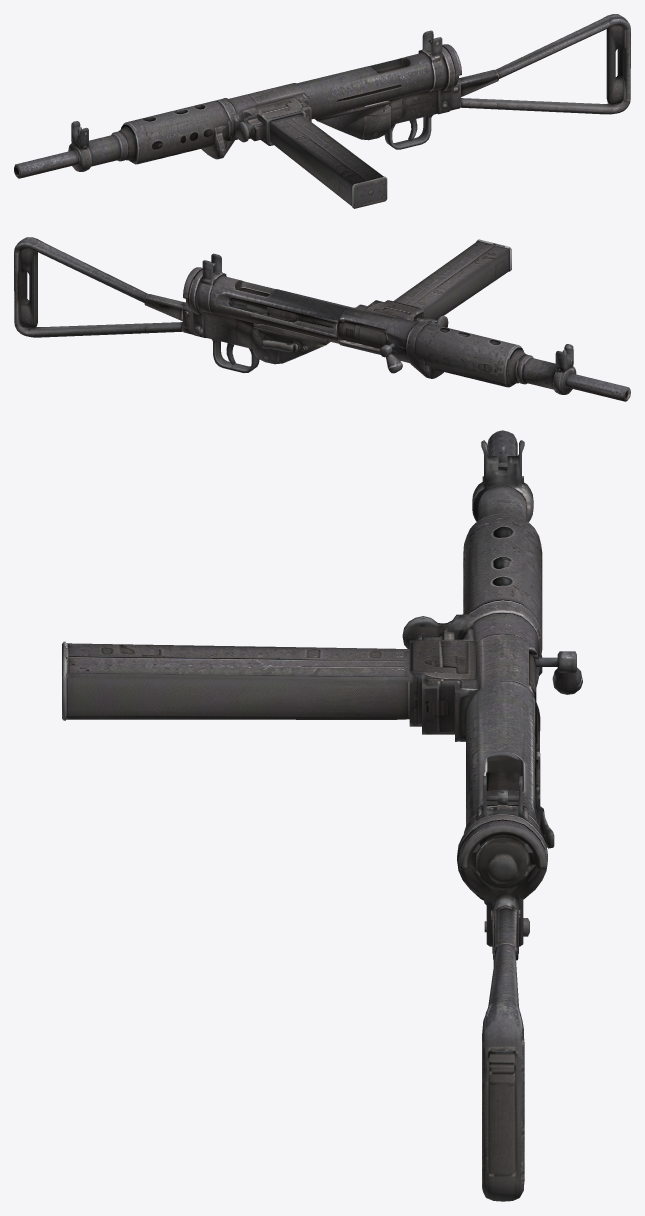
The model's file is statecraft-sten-approved-textured-bc6b06c8.glb.
The picture shows the model from 3 angles, top to bottom: view 1: azimuth 30°, elevation 25°; view 2: azimuth 150°, elevation 25°; view 3: azimuth 270°, elevation 25°; orthographic projection. The views are drawn at different scales.
Parts seen in each view (by area): view 1: tripo_node_07522d12-4899-4bbc-ac9e-6737a87441fa; view 2: tripo_node_07522d12-4899-4bbc-ac9e-6737a87441fa; view 3: tripo_node_07522d12-4899-4bbc-ac9e-6737a87441fa.
Boxes of the visible parts, bbox=[...] form: tripo_node_07522d12-4899-4bbc-ac9e-6737a87441fa: bbox=[14, 14, 630, 208]; tripo_node_07522d12-4899-4bbc-ac9e-6737a87441fa: bbox=[14, 237, 630, 401]; tripo_node_07522d12-4899-4bbc-ac9e-6737a87441fa: bbox=[62, 430, 582, 1201].
Bounding box in the file's own units: 0.9995 × 0.1909 × 0.3696.
Materials: 1 (1 with a texture image).
